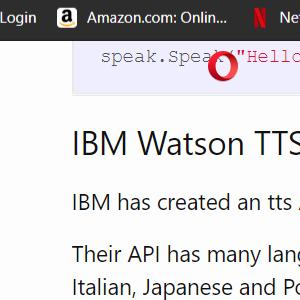opera: (208, 51, 238, 82)
